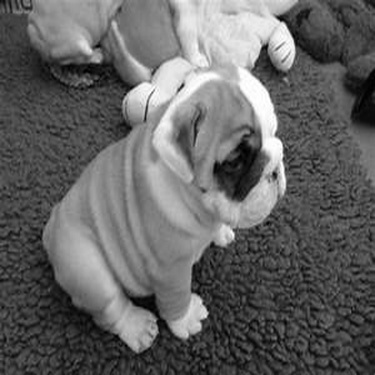dog: (29, 46, 296, 362)
